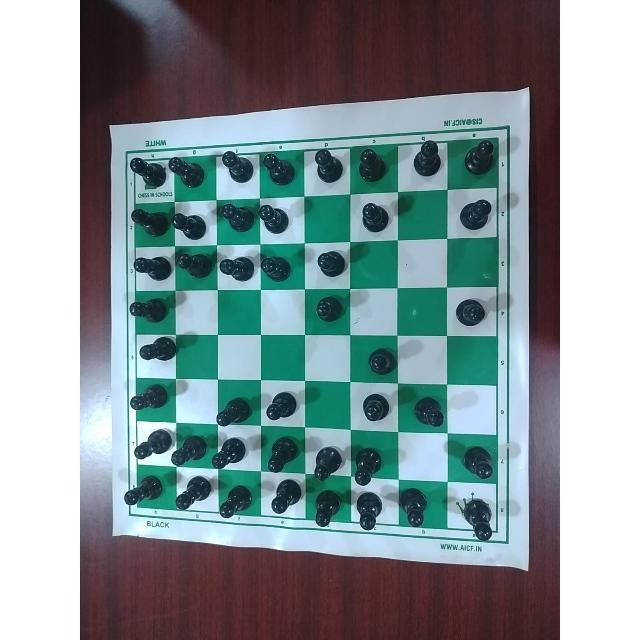black-pawn: (405, 139, 443, 181), (351, 445, 390, 485), (460, 498, 495, 542), (218, 148, 256, 187), (128, 206, 169, 242), (171, 427, 207, 468), (218, 481, 254, 522), (310, 438, 343, 482), (168, 153, 208, 189), (455, 196, 495, 232), (412, 392, 448, 432), (132, 425, 172, 461), (267, 474, 302, 515), (353, 493, 388, 533), (132, 250, 173, 284), (134, 334, 180, 364), (219, 202, 257, 238), (461, 444, 497, 482), (353, 145, 388, 184), (311, 486, 342, 530), (122, 474, 164, 506), (310, 148, 345, 186), (218, 251, 256, 286), (127, 296, 169, 327), (462, 138, 498, 174), (171, 204, 207, 240), (216, 392, 252, 428), (127, 381, 170, 411), (127, 156, 167, 188), (451, 295, 487, 330), (309, 293, 346, 327), (259, 252, 298, 284), (262, 150, 296, 186), (210, 435, 246, 469), (174, 475, 210, 509), (399, 487, 428, 529), (266, 438, 300, 473), (313, 247, 346, 283), (175, 250, 212, 282), (263, 391, 299, 423), (258, 203, 295, 234), (364, 343, 396, 378), (358, 202, 392, 234), (358, 390, 392, 422)
